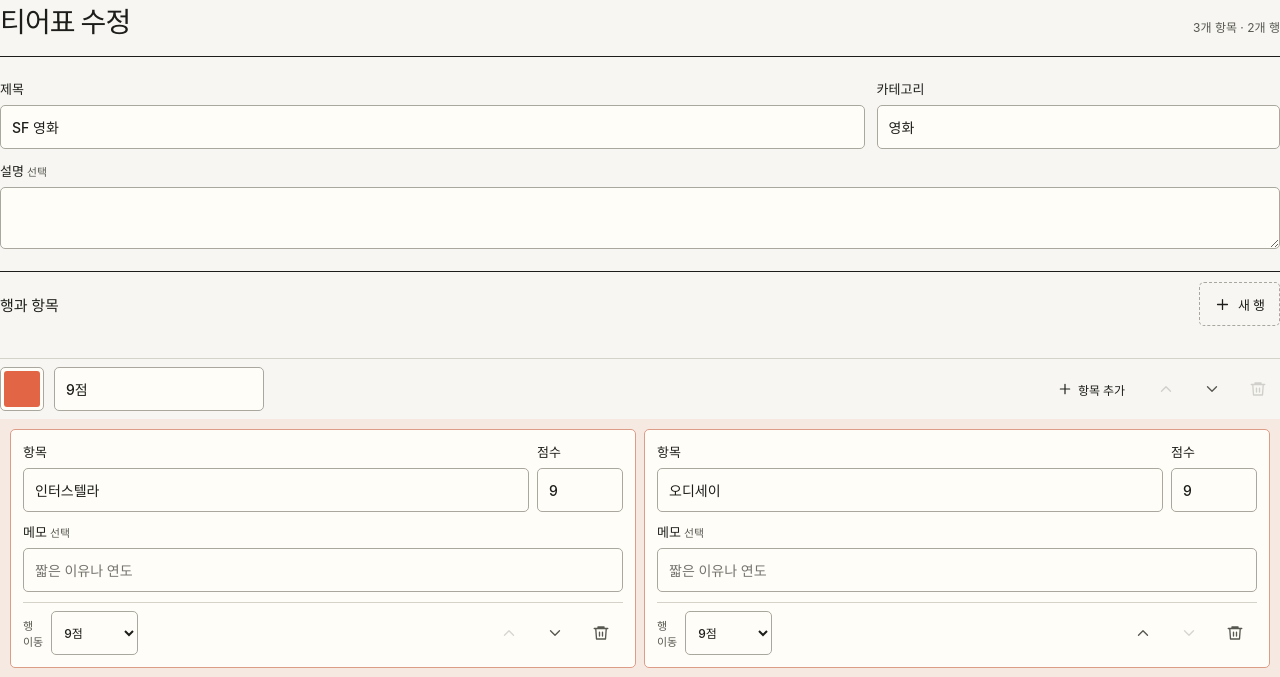
Test case: BoardEditor › does not add scores outside the shared 0.1 precision rule
Click the button with aria-label "9점에 항목 추가" at (1091, 389), box [1048,367,1134,411]
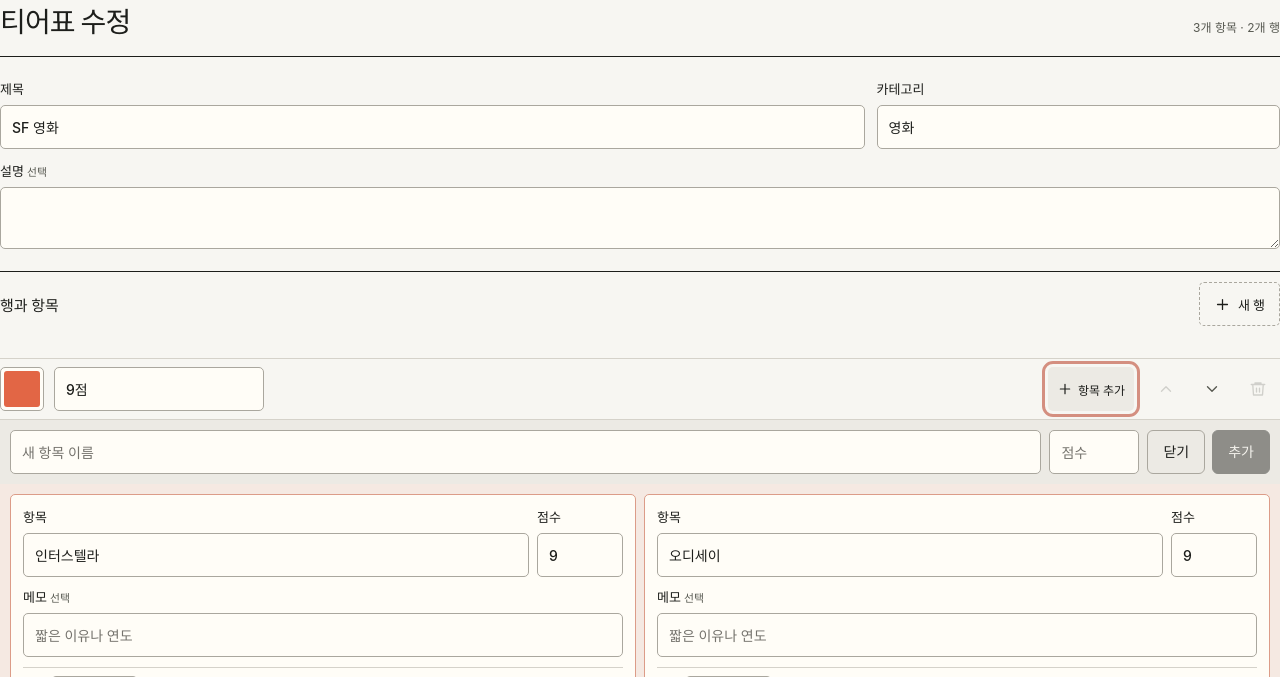
Type "잘못된 점수" into the field labelled "새 항목 이름" at (526, 452), box [10,430,1042,474]
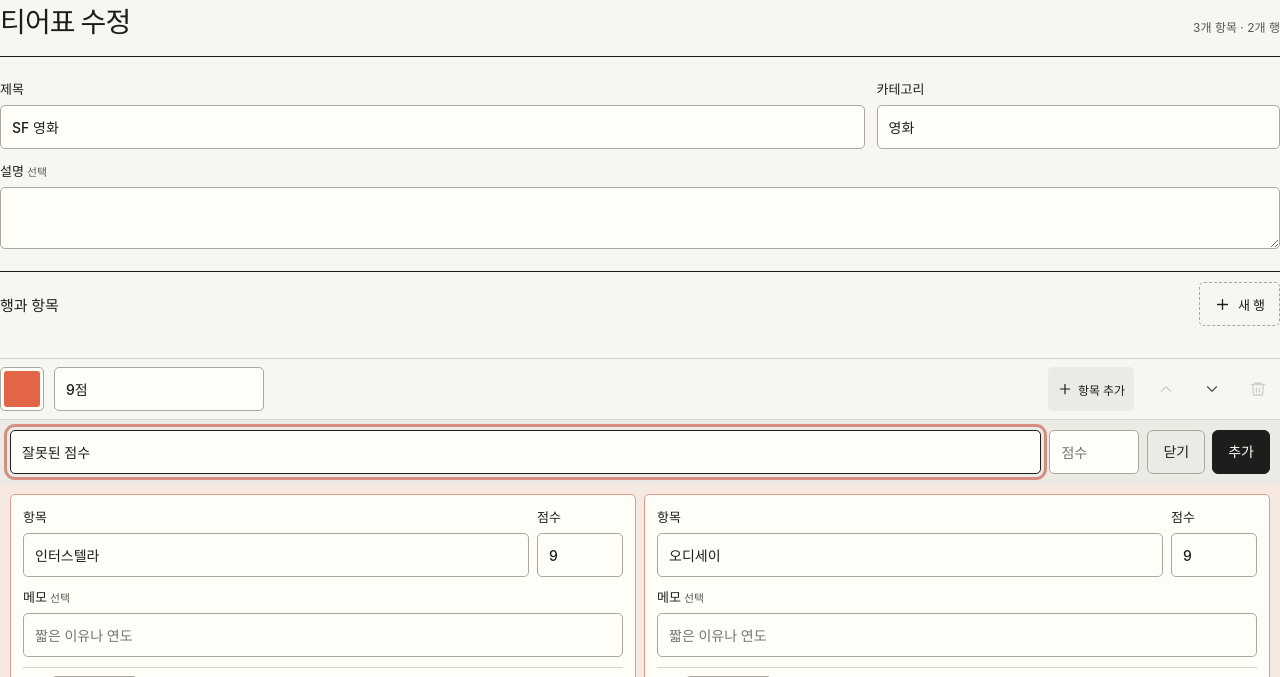
Type "7.55" into the number field named "새 항목 점수" at (1094, 452), box [1050,430,1140,474]
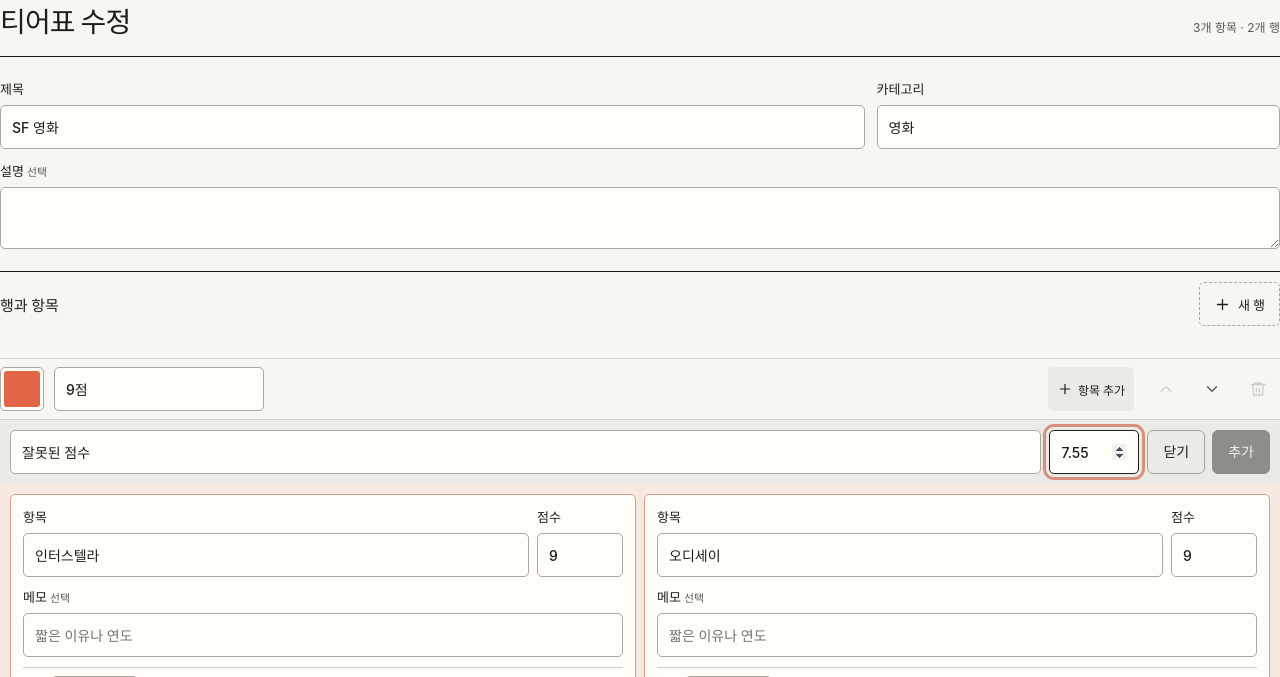
expect the button with aria-label "9점에 추가" is disabled: met, box [1212,430,1270,474]
